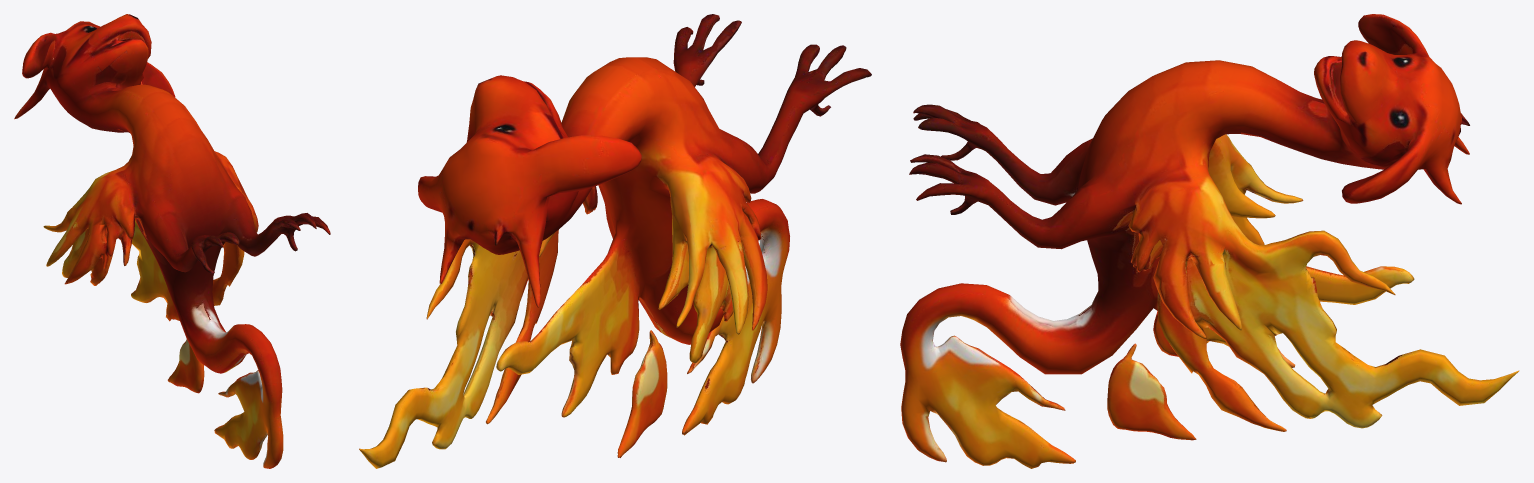
The model's file is Furaribi.glb.
3 renders of one model, left to right at view 1: azimuth 30°, elevation 25°; view 2: azimuth 150°, elevation 25°; view 3: azimuth 270°, elevation 25°, orthographic. The views are drawn at different scales.
Parts seen in each view (by area): view 1: Retopo_furaribi.002; view 2: Retopo_furaribi.002; view 3: Retopo_furaribi.002.
Boxes of the visible parts, x1,y1,x2,y2 form: Retopo_furaribi.002: (14,14,330,468); Retopo_furaribi.002: (359,14,871,468); Retopo_furaribi.002: (900,14,1519,468).
Bounding box in the file's own units: 0.8943 × 1.5 × 1.94.
1 material, 1 textured.
